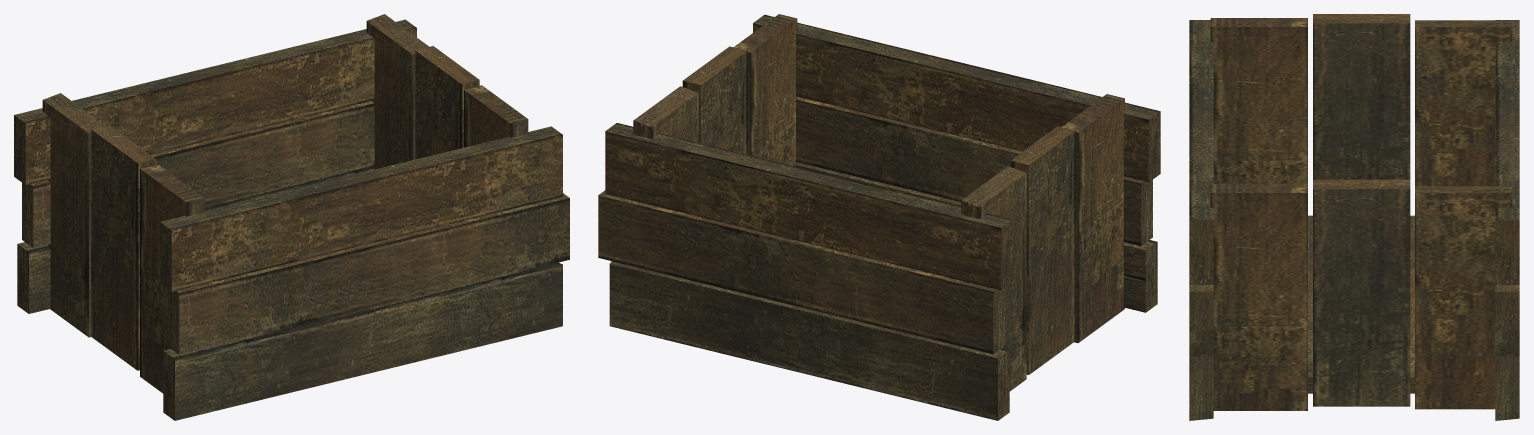
3 views of the same model, side by side, from view 1: azimuth 30°, elevation 25°; view 2: azimuth 150°, elevation 25°; view 3: azimuth 270°, elevation 25° (orthographic). The views are drawn at different scales.
Parts seen in each view (by area): view 1: box05; view 2: box05; view 3: box05.
Boxes of the visible parts, box(x1,y1,x2,y2) form: box05: box(14, 14, 569, 420); box05: box(598, 14, 1160, 420); box05: box(1189, 14, 1519, 420).
Bounding box in the file's own units: 0.9052 × 0.4597 × 0.6202.
